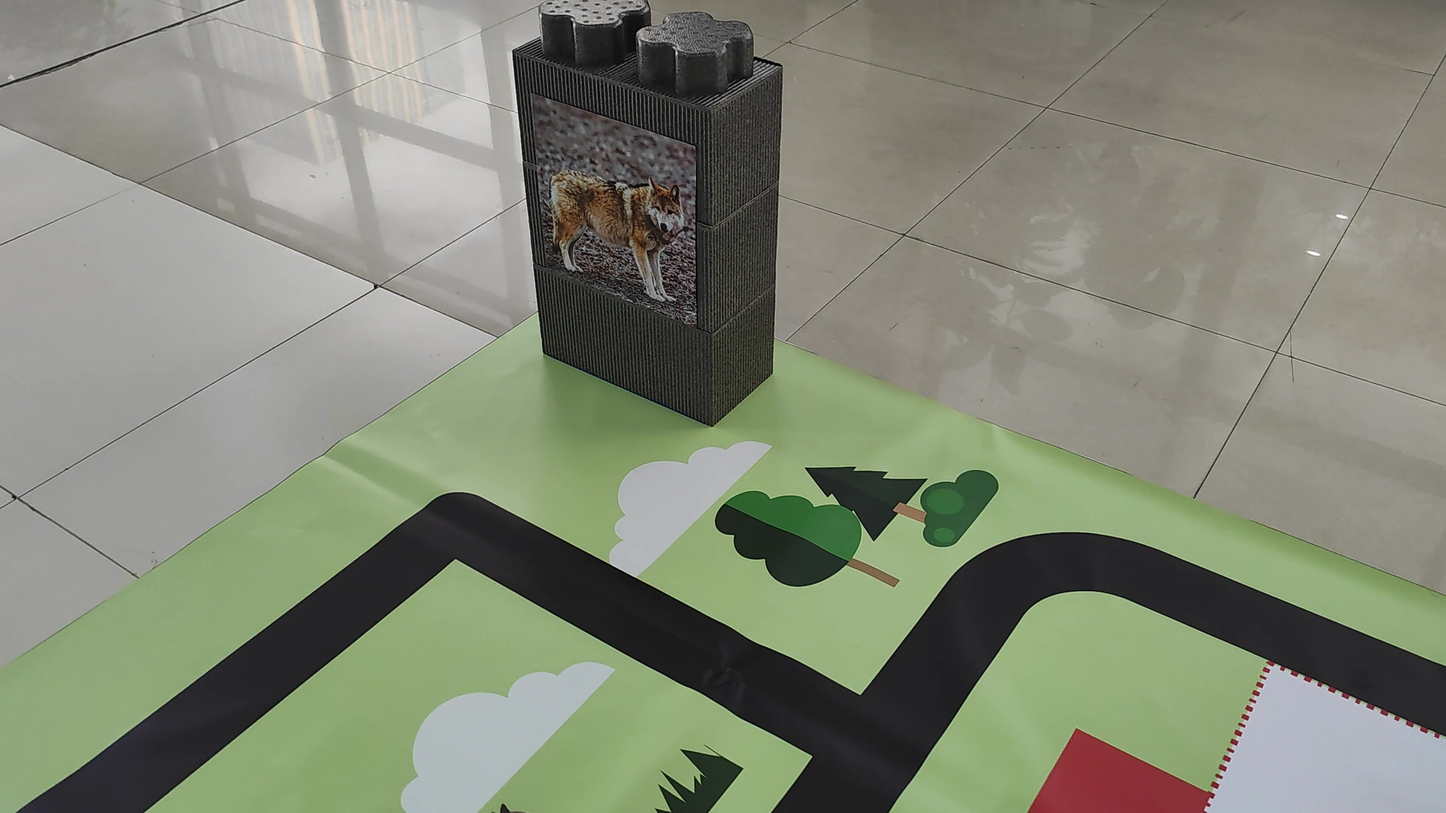wolf: (533, 149, 693, 308)
